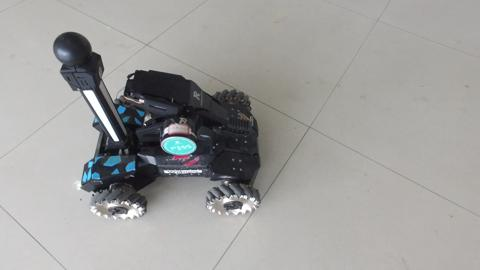chariot: (62, 31, 263, 213)
